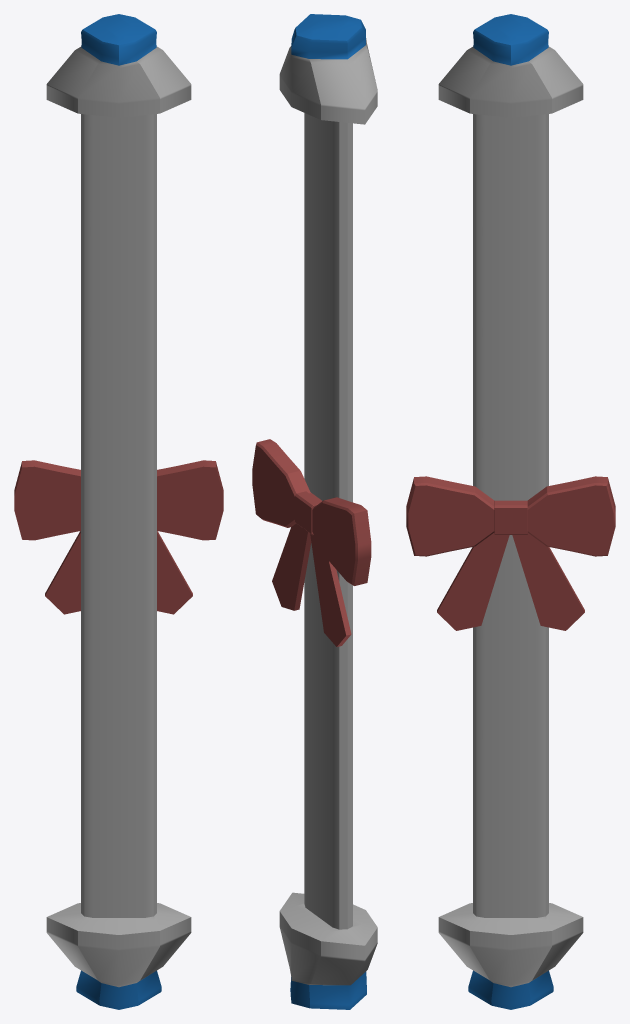
File: Gate.fbx
3 renders of one model, left to right at view 1: azimuth 90°, elevation 25°; view 2: azimuth 210°, elevation 25°; view 3: azimuth 270°, elevation 25°, orthographic.
Visible parts, largest first — view 1: Gate, Ribbon; view 2: Gate, Ribbon; view 3: Gate, Ribbon.
Part boxes in pixels (bbox=[...]): Gate: bbox=[46, 14, 191, 1009]; Ribbon: bbox=[14, 460, 223, 614]; Gate: bbox=[279, 14, 377, 1009]; Ribbon: bbox=[252, 439, 371, 646]; Gate: bbox=[438, 14, 583, 1009]; Ribbon: bbox=[406, 476, 615, 630].
Bounding box in the file's own units: 0.4776 × 5.94 × 1.17.
